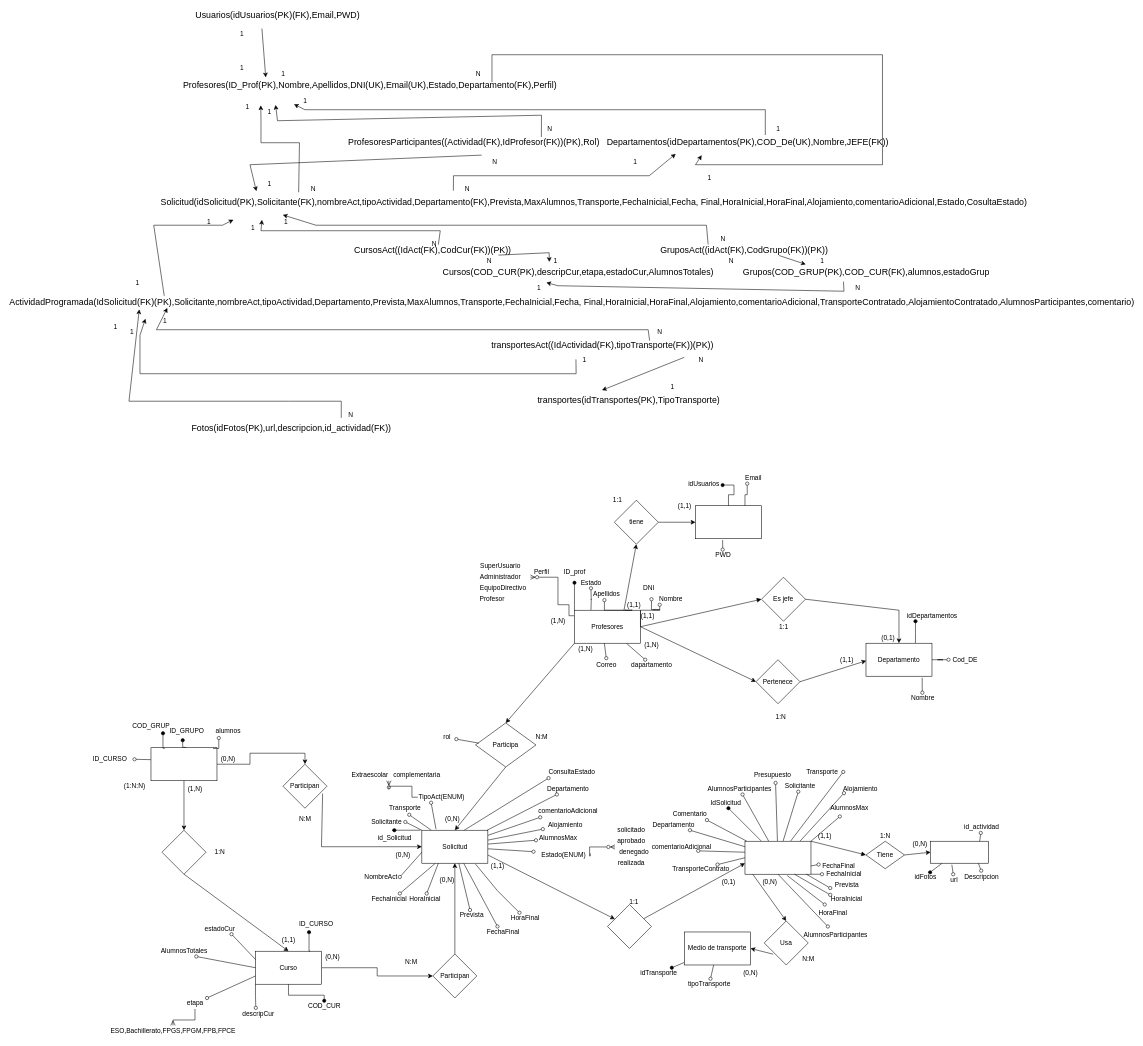
Some shapes in this 1143 by 1046 pixel diagram are drawn without their labels. Here are the shapes that lost their labels. From the top down, the centre of each, then its label:
At point 728,522: "usuario".
At point 183,764: "Grupos".
At point 183,852: "Compone".
At point 777,857: "actividadProgramada".
At point 959,852: "Fotos".
At point 629,926: "Procede".
